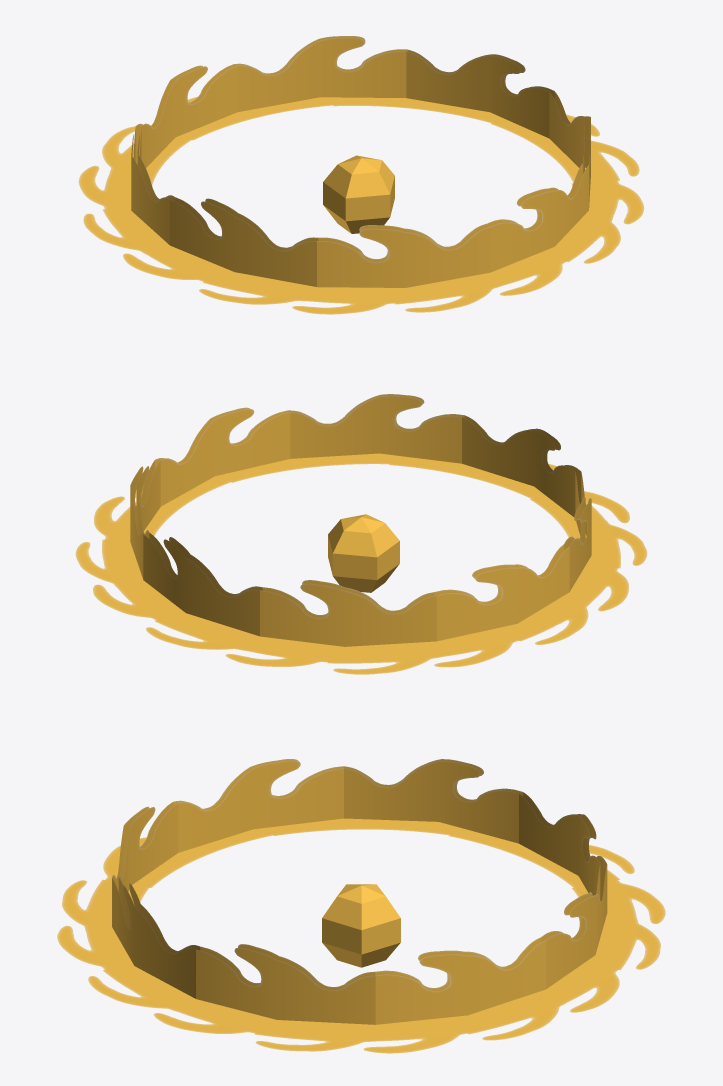
File: Asset_BridgeON.fbx
3 renders of one model, top to bottom at view 1: azimuth 30°, elevation 25°; view 2: azimuth 150°, elevation 25°; view 3: azimuth 270°, elevation 25°, orthographic. The views are drawn at different scales.
Parts seen in each view (by area): view 1: circle, outerlight, innerlight, lightball01; view 2: circle, outerlight, innerlight, lightball01; view 3: circle, outerlight, innerlight, lightball01.
Boxes of the visible parts, x1,y1,x2,y2 form: circle: (78,96,644,314); outerlight: (131,36,590,287); innerlight: (137,37,584,262); lightball01: (323,155,394,233); circle: (75,453,647,674); outerlight: (130,394,591,646); innerlight: (136,395,585,617); lightball01: (328,514,399,592); circle: (57,818,665,1053); outerlight: (112,759,607,1024); innerlight: (118,760,600,991); lightball01: (322,884,400,967).
Size of the model in its own units: 18.51 by 3.89 by 18.51.
